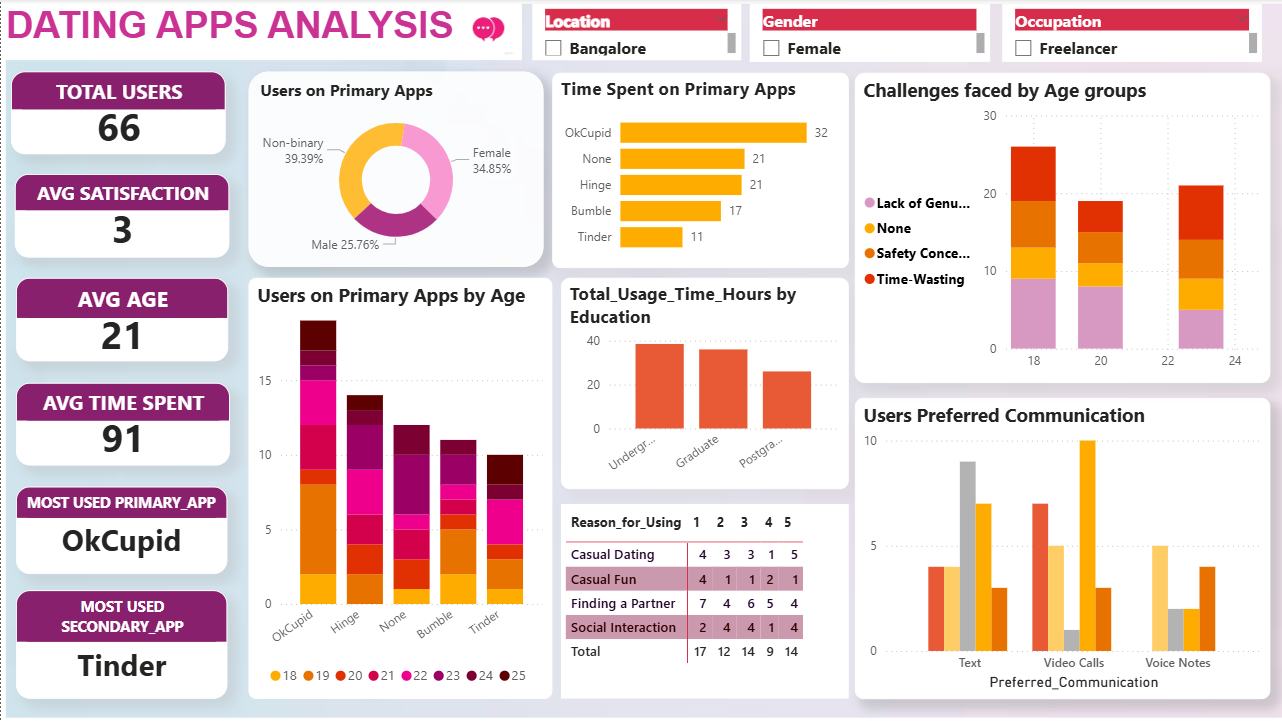

Layout of this report page (visuals, bound fields, positions):
{"tool":"powerbi","page":{"name":"Page 1","canvas":[1280,720],"ordinal":0},"visuals":[{"type":"image","box":[0,0,1280,720],"z":0},{"type":"textbox","box":[0,0,518.7,61],"z":1000},{"type":"image","box":[451.6,0,67.2,61],"z":2000},{"type":"card","title":"TOTAL USERS","fields":{"Values":["Count(GenZ_DatingApp_Data.User_ID)"]},"box":[10,72.1,214,82.1],"z":3000},{"type":"card","title":"AVG SATISFACTION","fields":{"Values":["Avg(GenZ_DatingApp_Data.Satisfaction)"]},"box":[13.7,174.2,214,83.3],"z":4000},{"type":"card","title":"AVG AGE","fields":{"Values":["Avg(GenZ_DatingApp_Data.Age)"]},"box":[14.9,277.4,211.5,83.3],"z":5000},{"type":"card","title":"AVG TIME SPENT","fields":{"Values":["Avg(GenZ_DatingApp_Data.UsageTime)"]},"box":[14.9,381.9,212.7,82.1],"z":6000},{"type":"card","title":"MOST USED PRIMARY_APP","fields":{"Values":["GenZ_DatingApp_Data.Most_Used_App"]},"box":[14.9,485.1,210.2,87.1],"z":7000},{"type":"card","title":"MOST USED SECONDARY_APP","fields":{"Values":["GenZ_DatingApp_Data.MostUsed_SecondaryApp"]},"box":[14.9,588.4,210.2,108.2],"z":8000},{"type":"donutChart","title":"Users on Primary Apps","fields":{"Category":["GenZ_DatingApp_Data.Gender"],"Y":["CountNonNull(GenZ_DatingApp_Data.Primary_App)"]},"box":[246.3,72.1,293.6,194.1],"z":9000},{"type":"clusteredBarChart","title":"Time Spent on Primary Apps","fields":{"Category":["GenZ_DatingApp_Data.Primary_App"],"Y":["GenZ_DatingApp_Data.Total_Usage_Time"]},"box":[548.6,73.4,294.8,194.1],"z":10000},{"type":"lineStackedColumnComboChart","title":"Users on Primary Apps by Age","fields":{"Category":["GenZ_DatingApp_Data.Primary_App"],"Series":["GenZ_DatingApp_Data.Age"],"Y":["CountNonNull(GenZ_DatingApp_Data.User_ID)"]},"box":[246.3,277.4,302.3,419.2],"z":11000},{"type":"slicer","fields":{"Values":["GenZ_DatingApp_Data.Location"]},"box":[528.7,5,207.7,56],"z":12000},{"type":"slicer","fields":{"Values":["GenZ_DatingApp_Data.Gender"]},"box":[745.1,5,238.8,57.2],"z":13000},{"type":"slicer","fields":{"Values":["GenZ_DatingApp_Data.Occupation"]},"box":[996.4,5,258.7,57.2],"z":14000},{"type":"clusteredColumnChart","fields":{"Category":["GenZ_DatingApp_Data.Education"],"Y":["GenZ_DatingApp_Data.Total_Usage_Time_Hours"]},"box":[557.3,277.4,286.1,210.2],"z":15000},{"type":"pivotTable","fields":{"Rows":["GenZ_DatingApp_Data.Reason_for_Using"],"Columns":["GenZ_DatingApp_Data.Satisfaction"],"Values":["CountNonNull(GenZ_DatingApp_Data.Satisfaction)"]},"box":[557.5,502.5,286.2,193.8],"z":16000},{"type":"lineClusteredColumnComboChart","title":"Users Preferred Communication","fields":{"Category":["GenZ_DatingApp_Data.Preferred_Communication"],"Series":["GenZ_DatingApp_Data.Primary_App"],"Y":["CountNonNull(GenZ_DatingApp_Data.User_ID)"]},"box":[850,396.2,413.8,300],"z":17000},{"type":"lineStackedColumnComboChart","title":"Challenges faced by Age groups","fields":{"Series":["GenZ_DatingApp_Data.Challenges"],"Y":["CountNonNull(GenZ_DatingApp_Data.Challenges)"],"Category":["GenZ_DatingApp_Data.Age (bins)"]},"box":[850,73.8,413.8,308.8],"z":18000}]}

Visuals, with their boxes in screenshot pixels (x1, y1, x2, y2), scaled from the page's 1280x720 canvas onto the 1282x721 screenshot:
image: (left=0, top=0, right=1281, bottom=720)
textbox: (left=0, top=0, right=520, bottom=61)
image: (left=452, top=0, right=520, bottom=61)
"TOTAL USERS" card: (left=10, top=72, right=224, bottom=154)
"AVG SATISFACTION" card: (left=14, top=174, right=228, bottom=258)
"AVG AGE" card: (left=15, top=278, right=227, bottom=361)
"AVG TIME SPENT" card: (left=15, top=382, right=228, bottom=465)
"MOST USED PRIMARY_APP" card: (left=15, top=486, right=225, bottom=573)
"MOST USED SECONDARY_APP" card: (left=15, top=589, right=225, bottom=698)
"Users on Primary Apps" donutChart: (left=247, top=72, right=541, bottom=267)
"Time Spent on Primary Apps" clusteredBarChart: (left=549, top=74, right=845, bottom=268)
"Users on Primary Apps by Age" lineStackedColumnComboChart: (left=247, top=278, right=549, bottom=698)
slicer - GenZ_DatingApp_Data.Location: (left=530, top=5, right=738, bottom=61)
slicer - GenZ_DatingApp_Data.Gender: (left=746, top=5, right=985, bottom=62)
slicer - GenZ_DatingApp_Data.Occupation: (left=998, top=5, right=1257, bottom=62)
clusteredColumnChart - GenZ_DatingApp_Data.Education x GenZ_DatingApp_Data.Total_Usage_Time_Hours: (left=558, top=278, right=845, bottom=488)
pivotTable - GenZ_DatingApp_Data.Reason_for_Using x GenZ_DatingApp_Data.Satisfaction: (left=558, top=503, right=845, bottom=697)
"Users Preferred Communication" lineClusteredColumnComboChart: (left=851, top=397, right=1266, bottom=697)
"Challenges faced by Age groups" lineStackedColumnComboChart: (left=851, top=74, right=1266, bottom=383)
